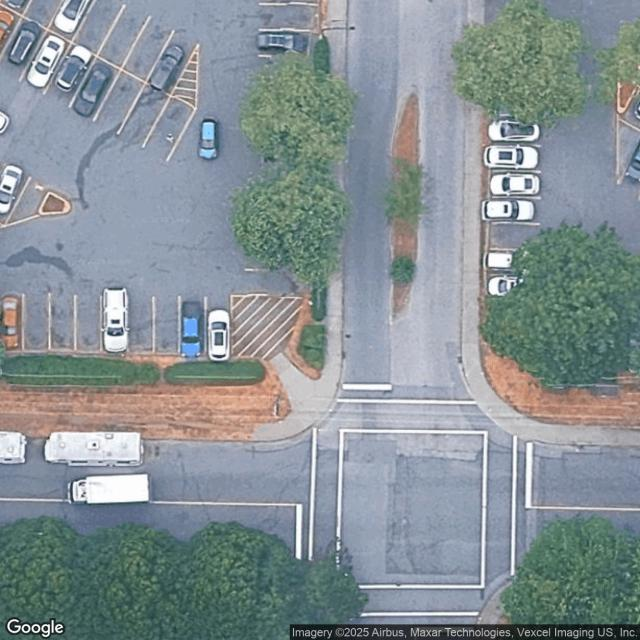car: (67, 60, 117, 122), (22, 31, 69, 91), (145, 39, 191, 95), (2, 14, 46, 70), (50, 42, 96, 95), (100, 287, 130, 356), (50, 0, 93, 37), (0, 161, 28, 217), (254, 28, 308, 56), (180, 297, 203, 359), (206, 309, 232, 362), (0, 292, 21, 352), (0, 6, 20, 54)
lot_boundary: (0, 0, 317, 362)
objects: (37, 193, 69, 214)
stall: (19, 30, 74, 97), (92, 70, 147, 137), (116, 83, 171, 150), (144, 30, 199, 97), (120, 17, 175, 83), (43, 43, 98, 109), (66, 56, 121, 122), (95, 5, 150, 71), (141, 96, 195, 162), (0, 16, 46, 84), (73, 0, 125, 56), (4, 178, 49, 227), (0, 163, 31, 229), (204, 299, 232, 355), (153, 298, 180, 355), (49, 294, 76, 351), (179, 299, 206, 356), (75, 295, 102, 351), (23, 294, 50, 350), (249, 130, 304, 157), (126, 297, 152, 354), (250, 75, 304, 102), (102, 295, 128, 351), (260, 4, 315, 30), (252, 30, 307, 56), (249, 158, 304, 184), (247, 214, 302, 240), (249, 186, 303, 212), (247, 243, 301, 269), (249, 269, 303, 295), (250, 102, 304, 128), (0, 4, 23, 57), (251, 54, 306, 76), (1, 294, 22, 351), (24, 0, 62, 28)
